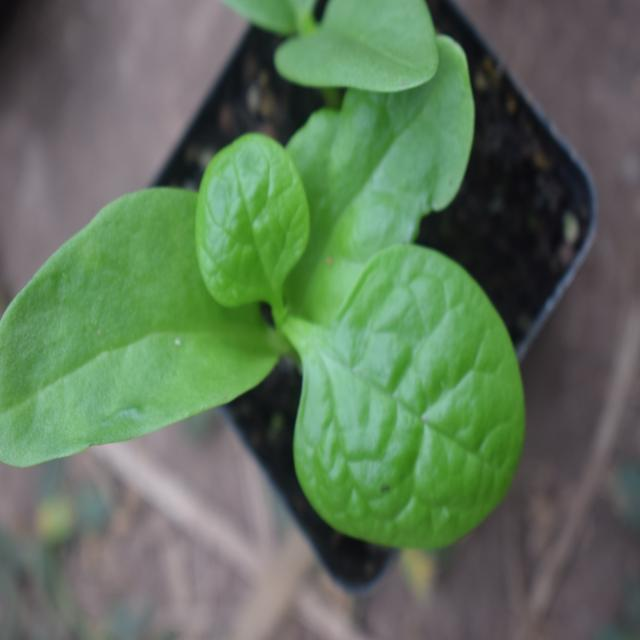Ceylon spinach: (0, 19, 533, 565)
